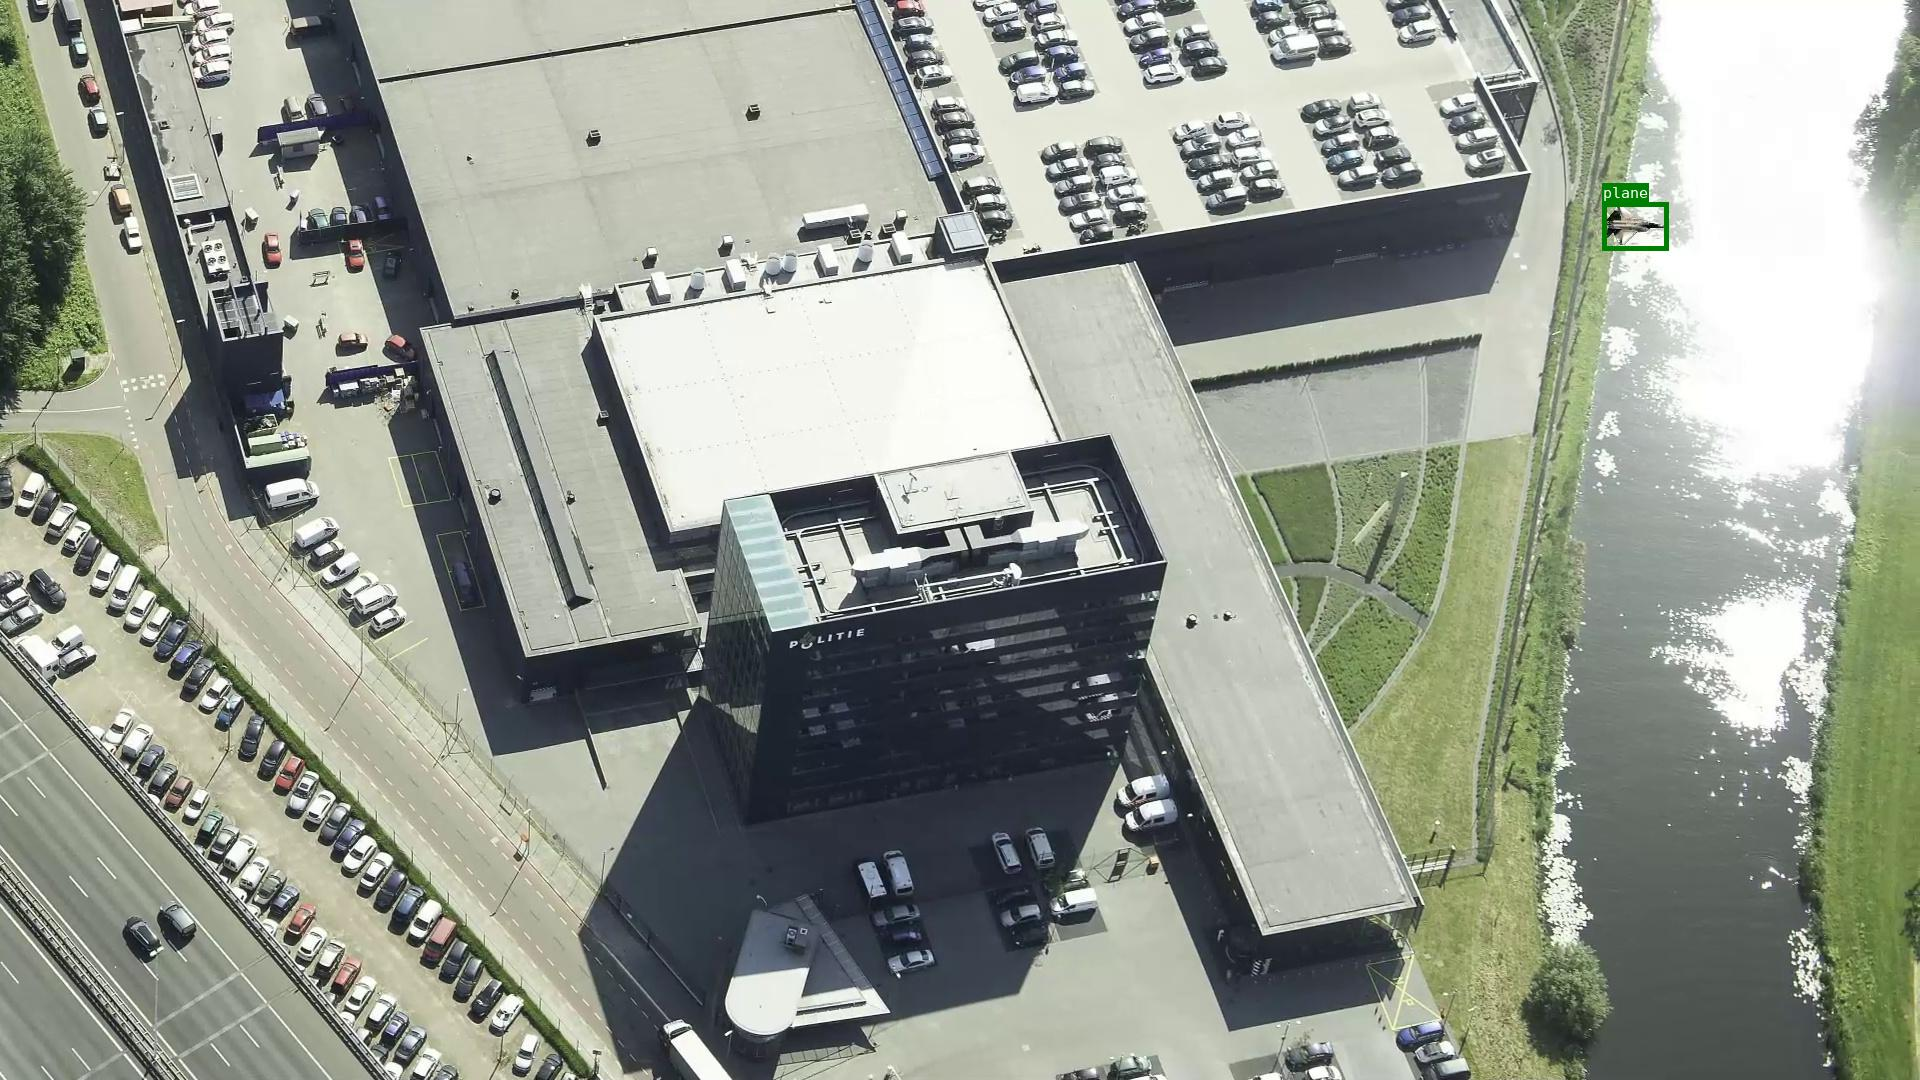plane: (1602, 202, 1668, 251)
